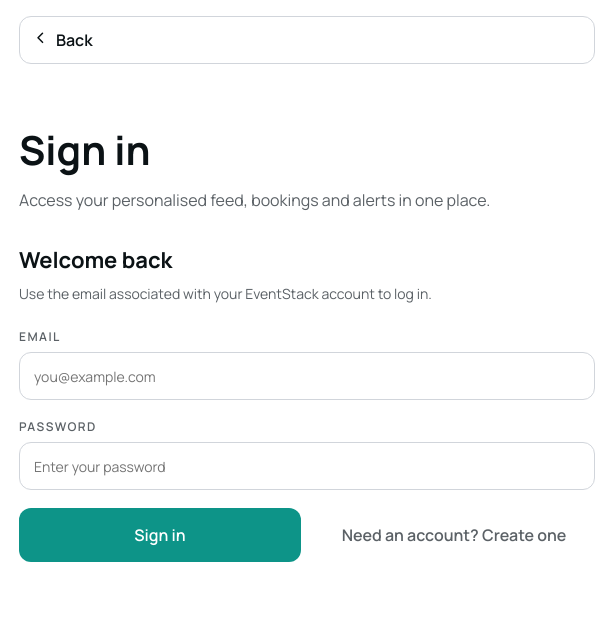
it: Authentication flows › shows error when login fails
The width and height of the screenshot is (615, 644).
Type "user@example.com" into the field labelled "Email". click: point(307, 376)
box: [19,352,595,400]
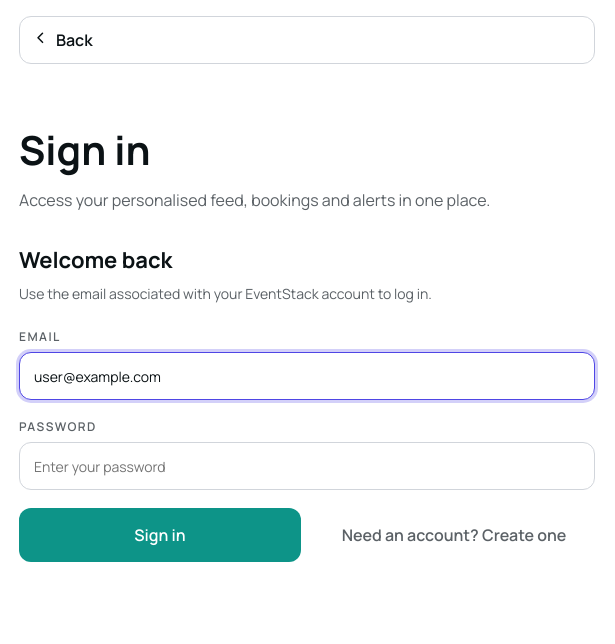
Type "secret123" into the password field labelled "Password". click: point(307, 466)
box: [19,442,595,490]
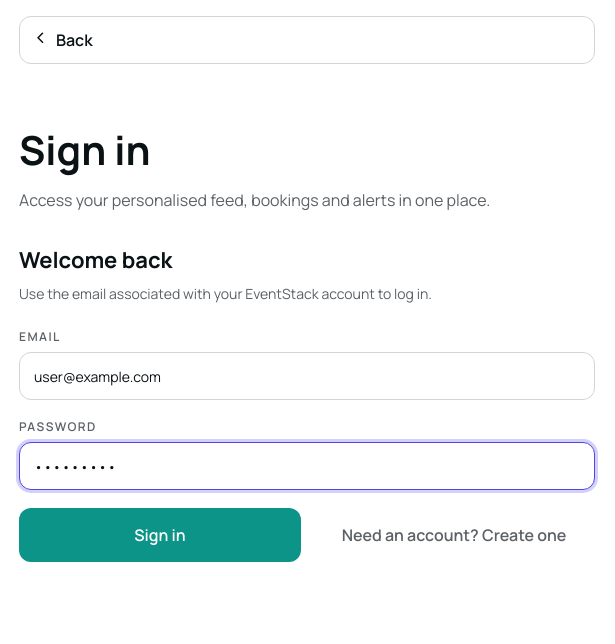
Click the button "Sign in". click: point(160, 535)
box: [19,508,301,562]
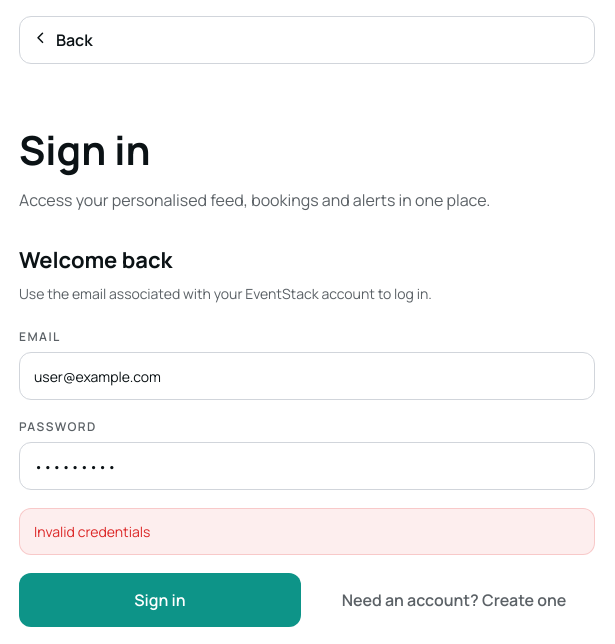
expect the text "Invalid credentials" is shown: met, box [19,508,595,555]
